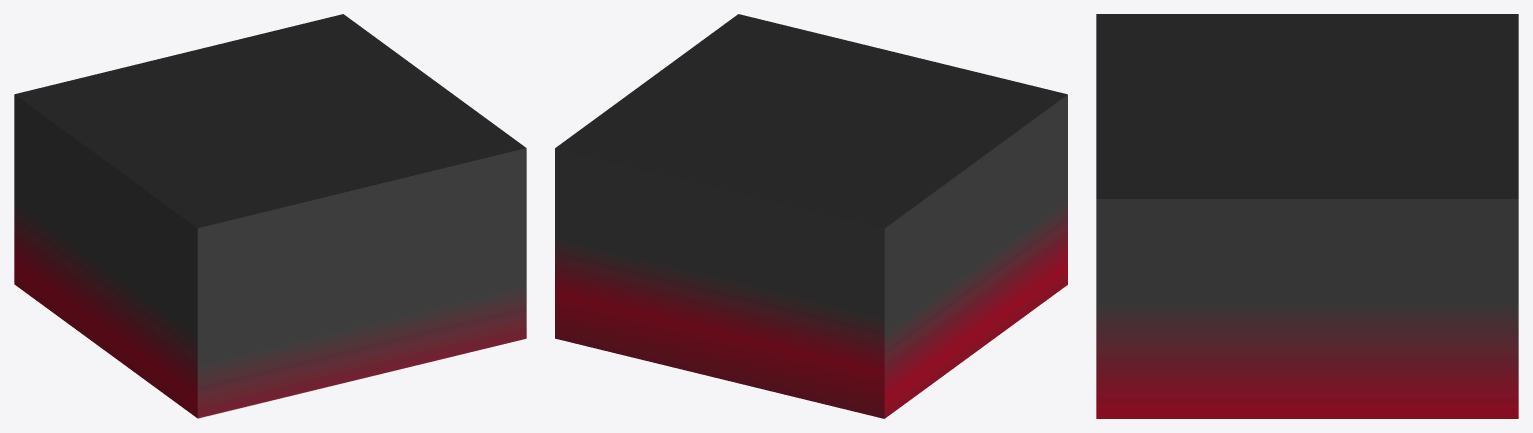
3 renders of one model, left to right at view 1: azimuth 30°, elevation 25°; view 2: azimuth 150°, elevation 25°; view 3: azimuth 270°, elevation 25°, orthographic. The views are drawn at different scales.
Visible parts, largest first — view 1: Untitled-SKP--Material13, Untitled-SKP--Plastic_black; view 2: Untitled-SKP--Material13, Untitled-SKP--Plastic_black; view 3: Untitled-SKP--Material13, Untitled-SKP--Plastic_black.
Part boxes in pixels (x1=…): Untitled-SKP--Material13: x1=14, y1=94, x2=526, y2=418; Untitled-SKP--Plastic_black: x1=15, y1=14, x2=525, y2=228; Untitled-SKP--Material13: x1=555, y1=94, x2=1067, y2=418; Untitled-SKP--Plastic_black: x1=555, y1=14, x2=1067, y2=228; Untitled-SKP--Material13: x1=1096, y1=199, x2=1518, y2=418; Untitled-SKP--Plastic_black: x1=1096, y1=14, x2=1518, y2=198.
Bounding box in the file's own units: 134408 × 74423 × 129585.
34 materials, 34 textured.
